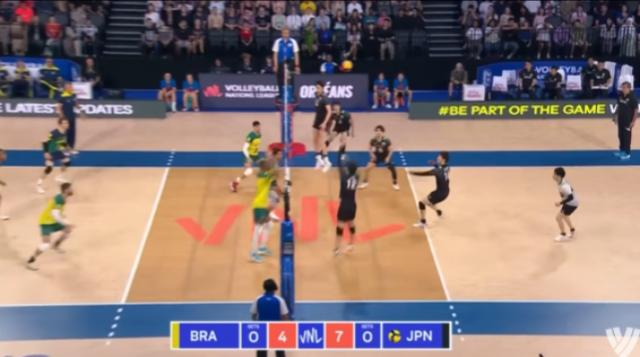Levantador: (22, 176, 88, 296), (362, 118, 402, 190)
Libero: (21, 93, 95, 195), (544, 157, 590, 245)
bola: (333, 52, 359, 78)
